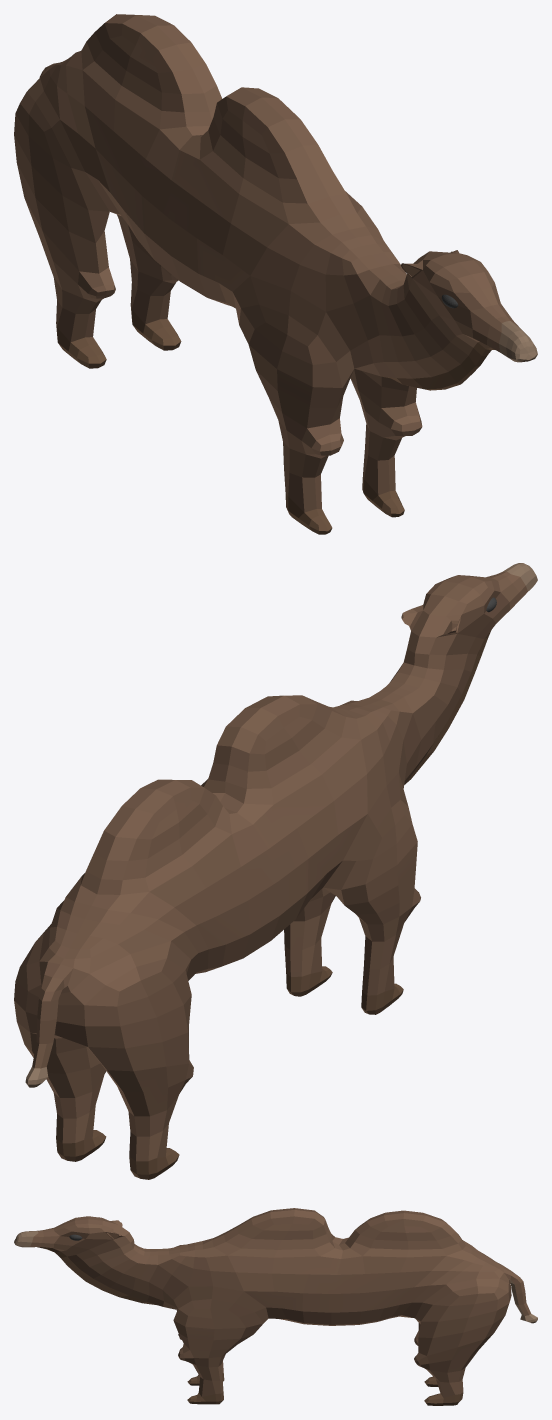
Rendered from camel.glb.
3 views of the same model, one above another, from view 1: azimuth 30°, elevation 25°; view 2: azimuth 150°, elevation 25°; view 3: azimuth 270°, elevation 25° (orthographic). The views are drawn at different scales.
Visible parts, largest first — view 1: hull, rightBehindLeg, rightFrontLeg, leftFrontLeg, leftBehindLeg; view 2: hull, rightBehindLeg, rightFrontLeg, leftBehindLeg, leftFrontLeg, tail; view 3: hull, leftBehindLeg, leftFrontLeg, tail.
Boxes of the visible parts, left/top/right/bottom form: hull: left=27, top=14, right=537, bottom=390; rightBehindLeg: left=14, top=92, right=115, bottom=368; rightFrontLeg: left=233, top=293, right=354, bottom=534; leftFrontLeg: left=350, top=369, right=422, bottom=517; leftBehindLeg: left=117, top=214, right=181, bottom=350; hull: left=25, top=563, right=537, bottom=1046; rightBehindLeg: left=84, top=958, right=193, bottom=1179; rightFrontLeg: left=323, top=800, right=420, bottom=1014; leftBehindLeg: left=14, top=943, right=106, bottom=1161; leftFrontLeg: left=284, top=888, right=335, bottom=996; tail: left=25, top=962, right=73, bottom=1087; hull: left=14, top=1208, right=514, bottom=1325; leftBehindLeg: left=414, top=1286, right=509, bottom=1405; leftFrontLeg: left=173, top=1299, right=263, bottom=1404; tail: left=504, top=1266, right=537, bottom=1323.
Bounding box in the file's own units: 117 × 309 × 796.
